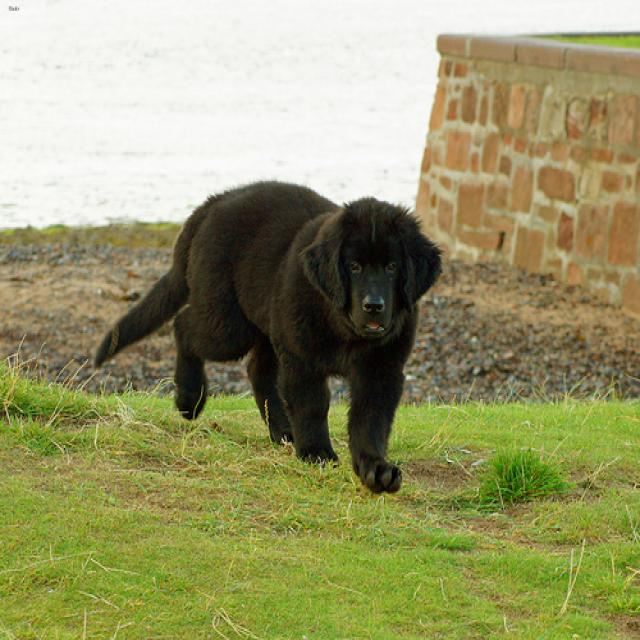dog-newfoundland: (86, 167, 454, 510)
